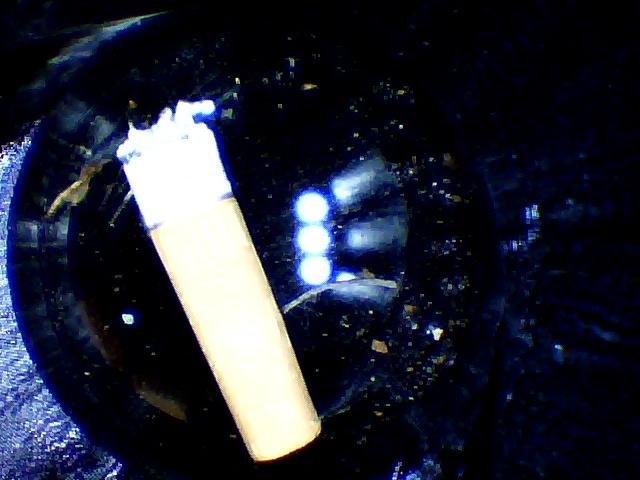megot: (112, 96, 333, 465)
